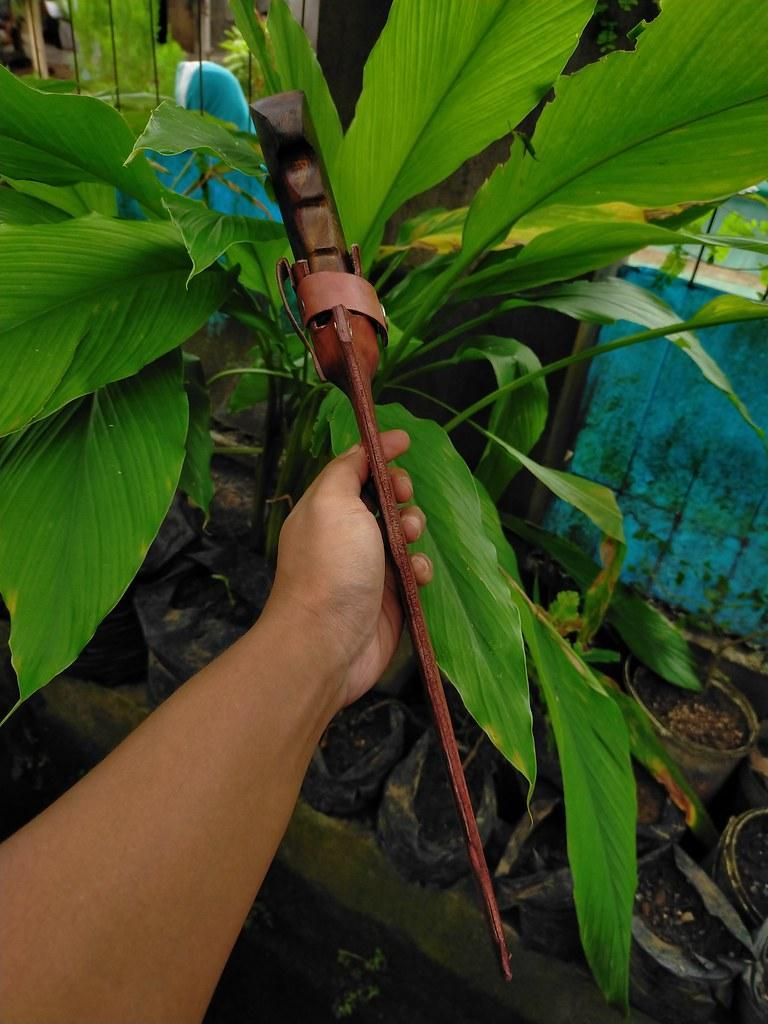facao: (253, 92, 394, 538), (390, 527, 493, 904)
